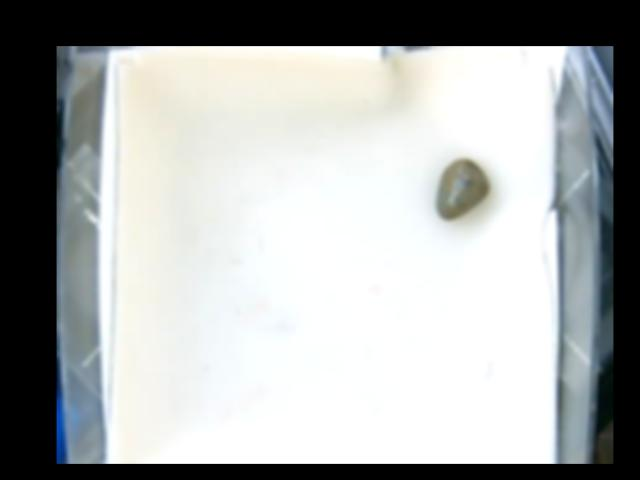Pebble: (435, 157, 487, 221)
